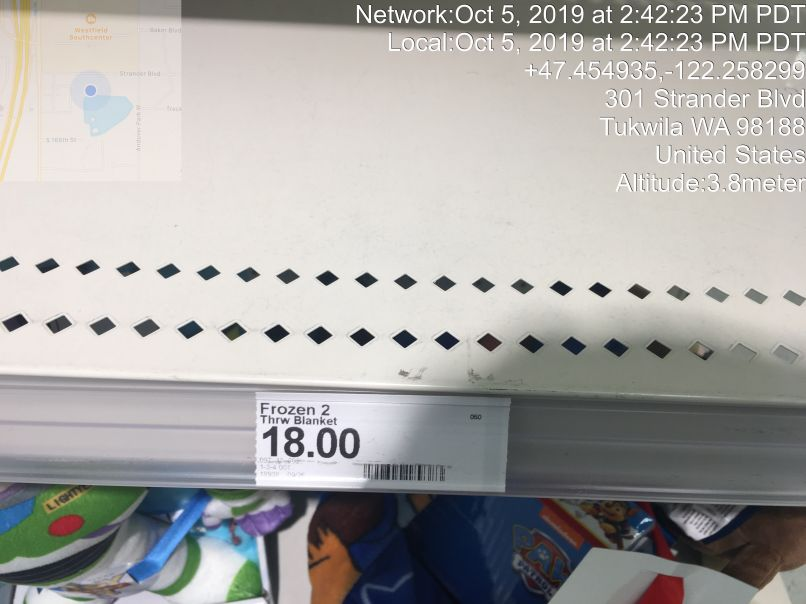Label: (244, 381, 517, 501)
Location: (596, 83, 806, 168)
Time: (346, 3, 806, 56)
Void: (12, 20, 771, 351)
